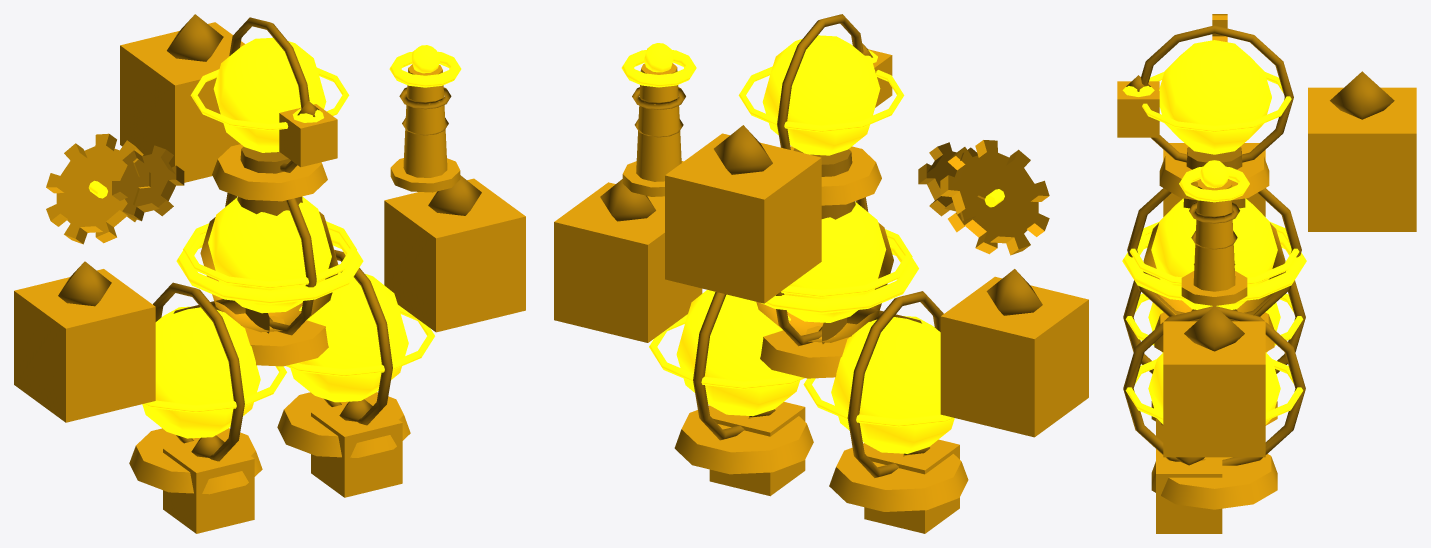
File: golem_098.glb
3 views of the same model, side by side, from view 1: azimuth 30°, elevation 25°; view 2: azimuth 150°, elevation 25°; view 3: azimuth 270°, elevation 25° (orthographic). The views are drawn at different scales.
Visible parts, largest first — view 1: Body, Glow, Detail; view 2: Body, Glow, Detail; view 3: Body, Glow, Detail.
Part boxes in pixels (<box>): Body: <box>14,22,525,533</box>; Glow: <box>88,37,461,438</box>; Detail: <box>58,14,481,461</box>; Body: <box>554,49,1088,533</box>; Glow: <box>621,35,1004,453</box>; Detail: <box>600,14,1042,477</box>; Body: <box>1117,14,1416,533</box>; Glow: <box>1122,40,1306,424</box>; Detail: <box>1123,25,1394,465</box>.
Size of the model in its own units: 1.38 by 1.33 by 0.7865.
